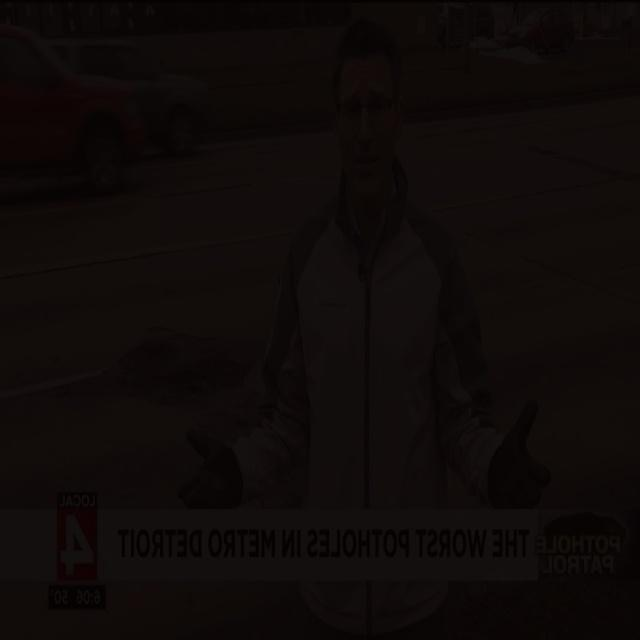Pothole: (42, 320, 266, 412)
